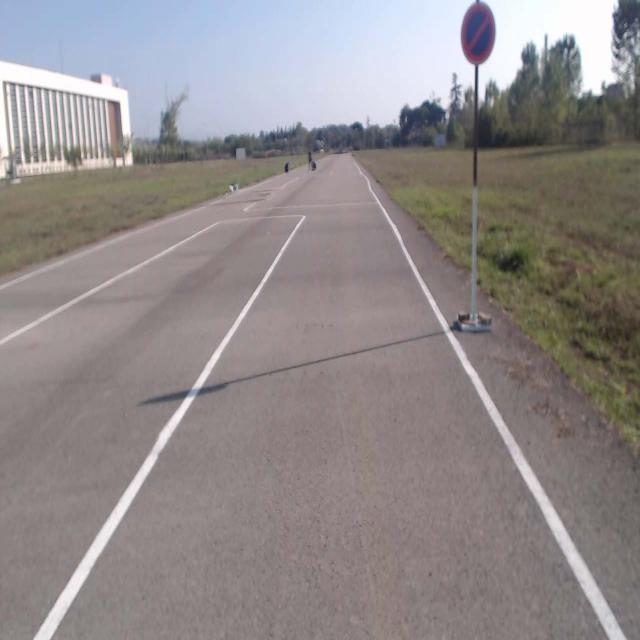parkyasak: (463, 4, 495, 64)
